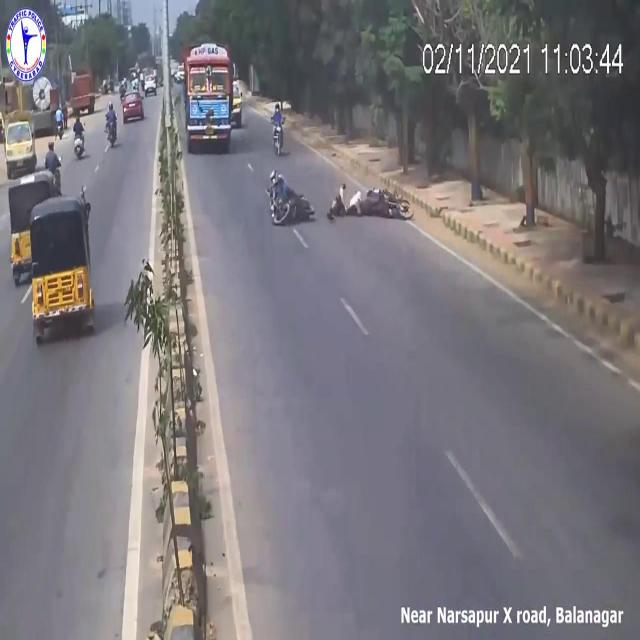accident: (267, 154, 416, 234)
non_accident: (0, 133, 98, 371), (181, 37, 245, 155), (103, 42, 163, 154)
